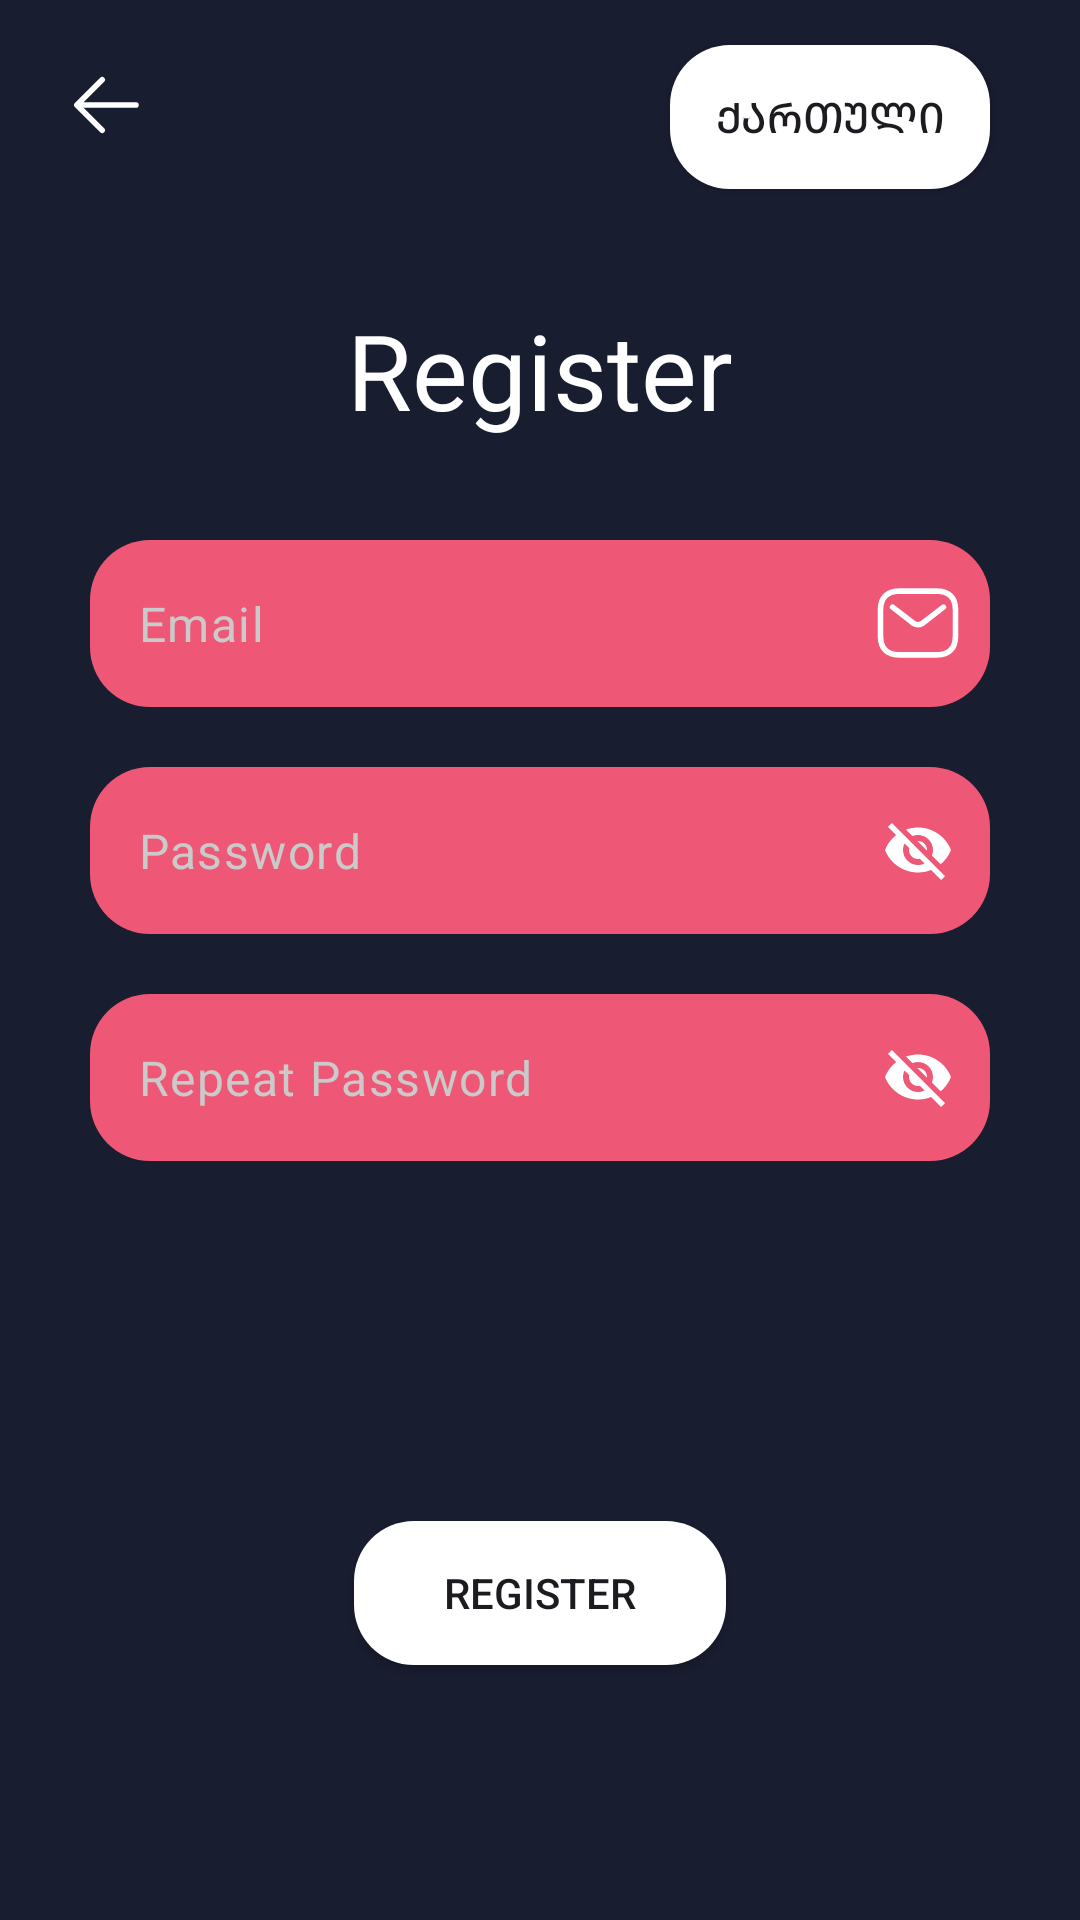

Locate icon controls on the screen. Image size 1080×1920, boxes as {"left": x1, "top": y1, "right": x2, "bottom": y2}.
back: {"left": 74, "top": 76, "right": 139, "bottom": 134}
